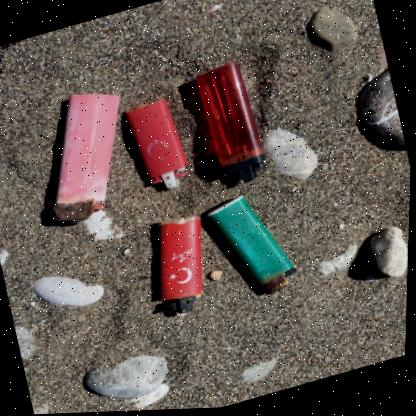Waste: (207, 197, 297, 296), (195, 63, 268, 184), (50, 95, 119, 223), (126, 98, 189, 189), (161, 217, 203, 317)
